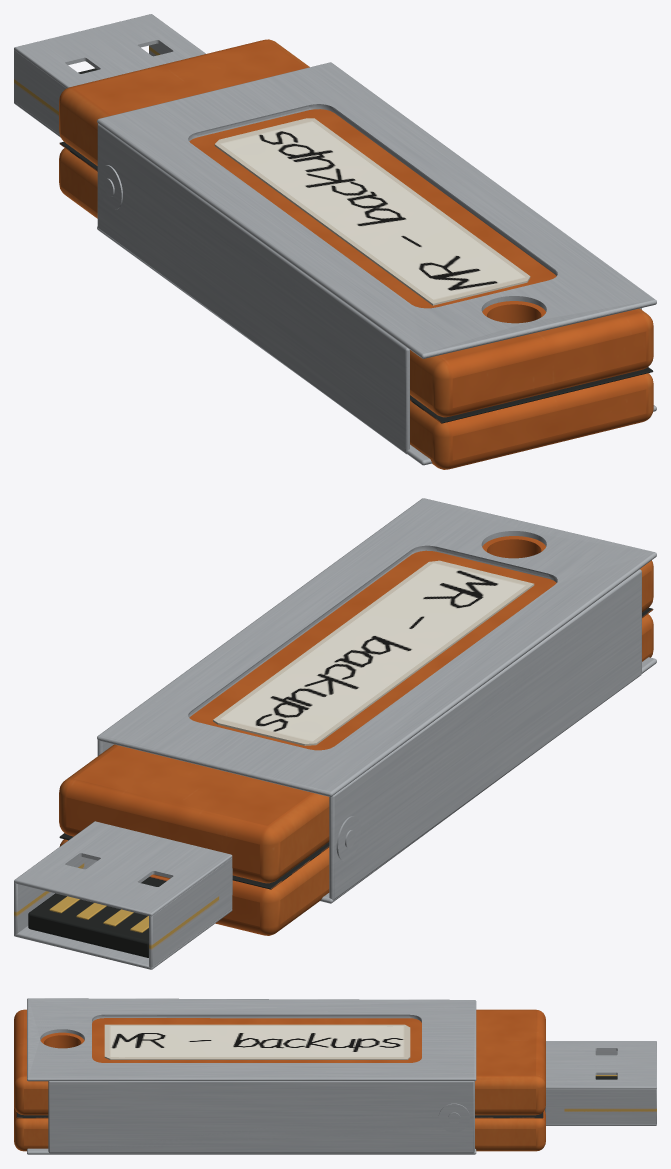
The model's file is usb_stick.glb.
3 renders of one model, top to bottom at view 1: azimuth 30°, elevation 25°; view 2: azimuth 150°, elevation 25°; view 3: azimuth 270°, elevation 25°, orthographic. The views are drawn at different scales.
Visible parts, largest first — view 1: body; view 2: body; view 3: body.
Part boxes in pixels (x1=…): body: x1=14, y1=14, x2=656, y2=469; body: x1=14, y1=498, x2=656, y2=969; body: x1=14, y1=998, x2=656, y2=1154.
Bounding box in the file's own units: 0.021 × 0.00971 × 0.0701.
3 materials, 3 textured.
